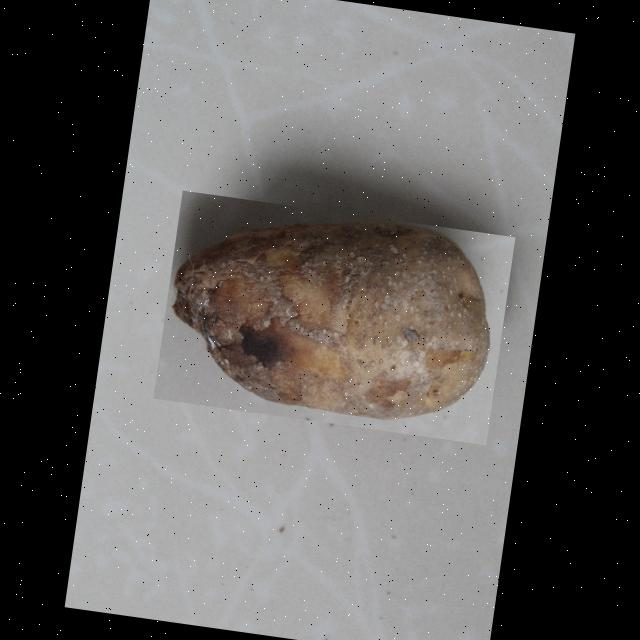Diseased-fungal potato: (154, 190, 516, 444)
